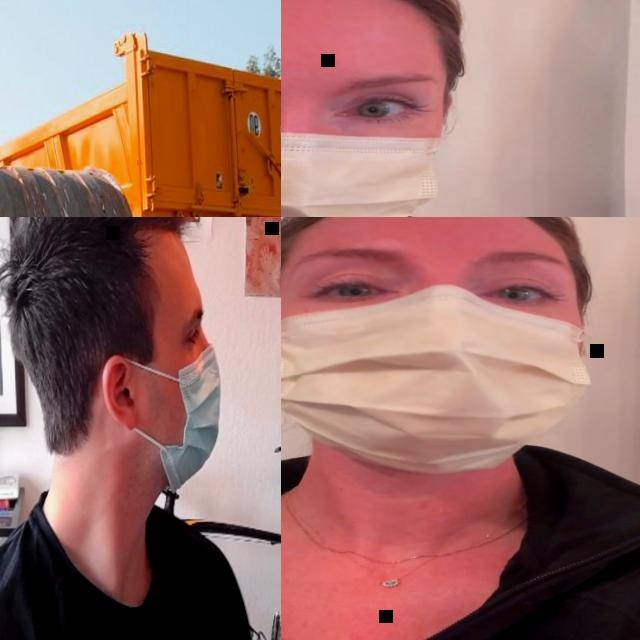Mask: (281, 298, 592, 476), (281, 76, 456, 217), (127, 342, 224, 501)
NO-Hardhat: (1, 217, 185, 304), (281, 217, 583, 254)
NO-Safety Vest: (281, 485, 640, 640), (0, 512, 228, 640)
Person: (281, 217, 640, 640), (0, 217, 281, 640), (281, 0, 640, 217)
machinery: (0, 26, 281, 217), (0, 0, 181, 217)
